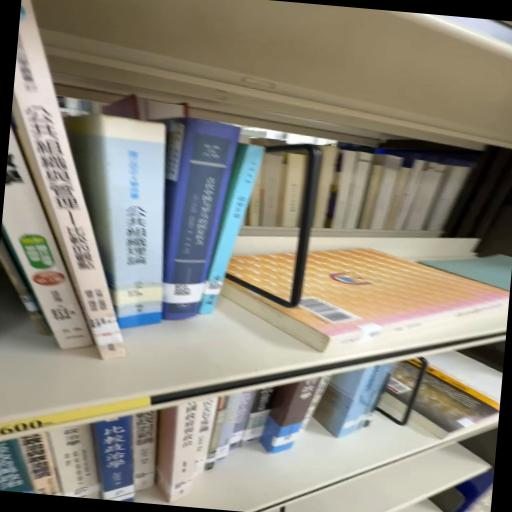flat: (224, 250, 510, 352)
